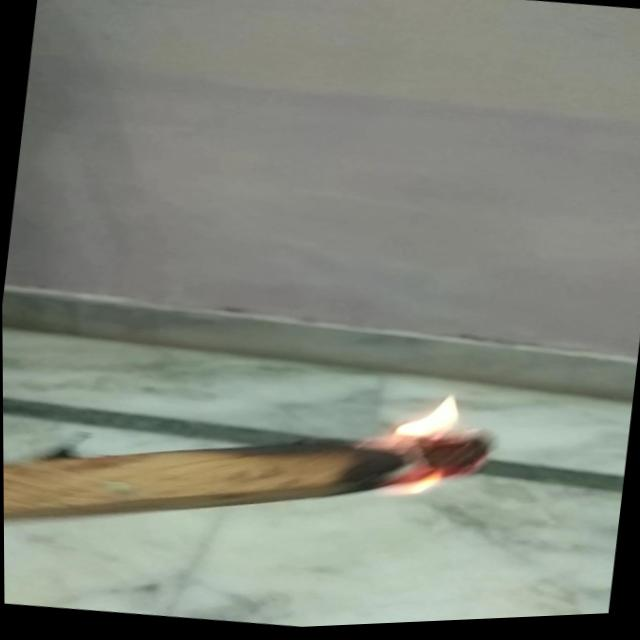fire: (349, 384, 509, 513)
